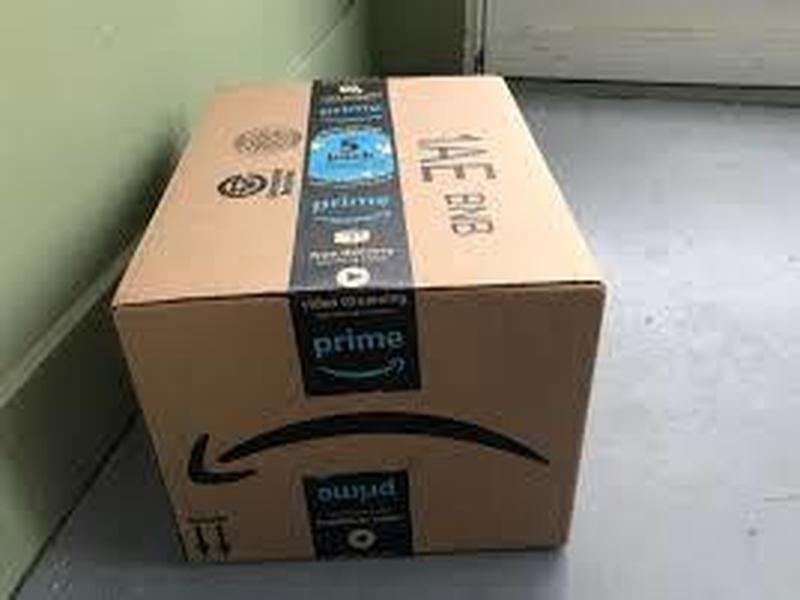package: (94, 47, 625, 576)
